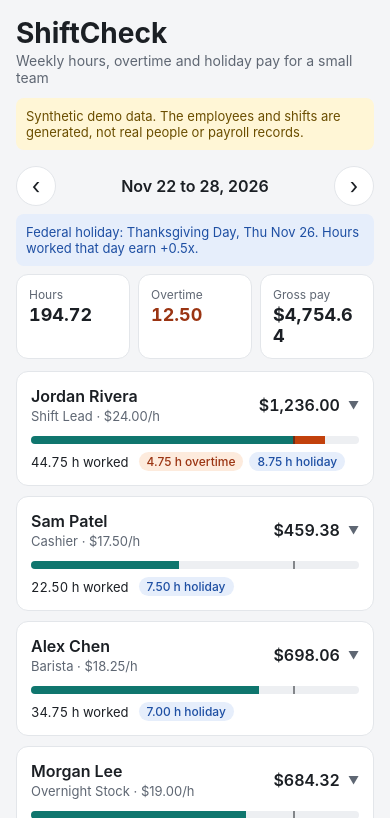
moves between weeks
The width and height of the screenshot is (390, 818).
Check: the text "Jordan Rivera" is shown, box left=31, top=386, right=138, bottom=406
Click the button named "Next week" at (354, 186), box left=334, top=166, right=374, bottom=206
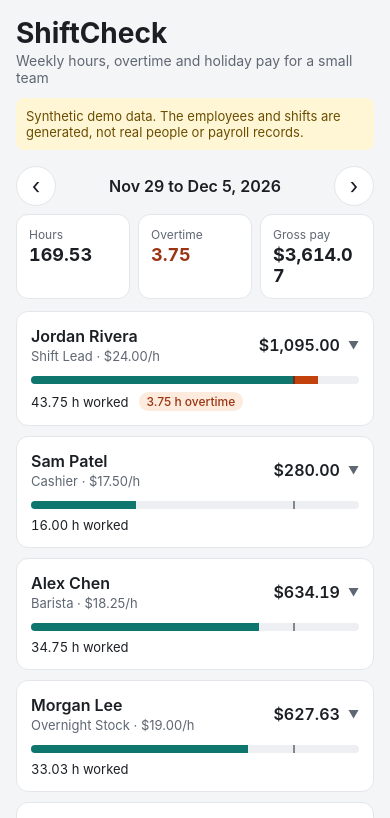
Check: the text "Nov 29 to Dec 5, 2026" is shown, box left=109, top=176, right=281, bottom=196
